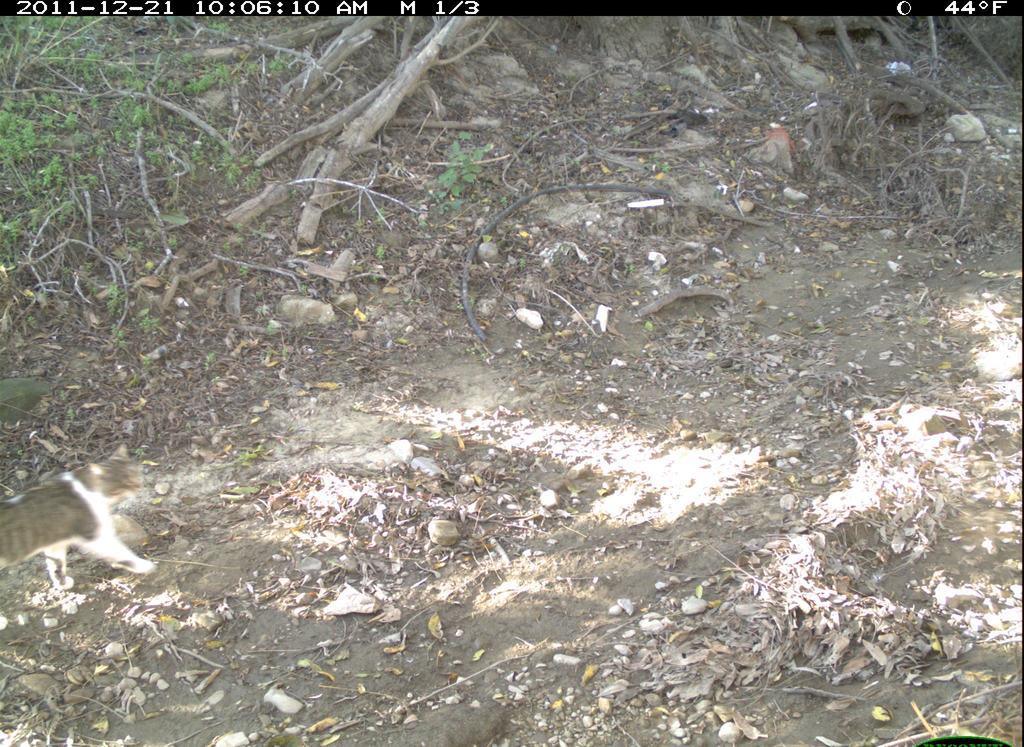cat: (2, 443, 162, 602)
